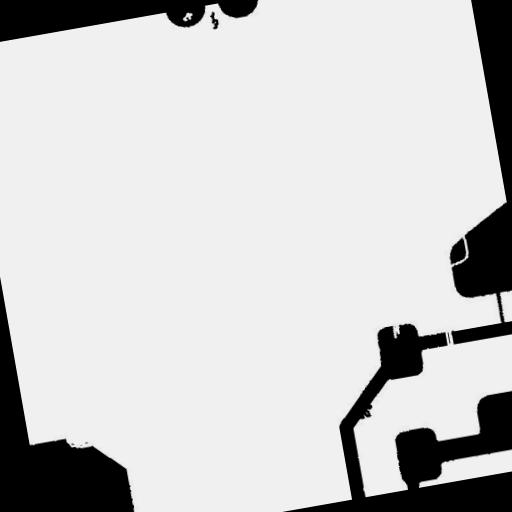copper: (200, 2, 228, 38)
mousebite: (58, 424, 96, 455), (382, 310, 412, 346)
open: (435, 223, 479, 275), (434, 318, 462, 358)
pin-hole: (173, 6, 201, 30)
short: (485, 278, 512, 340)
spur: (347, 394, 382, 428)
